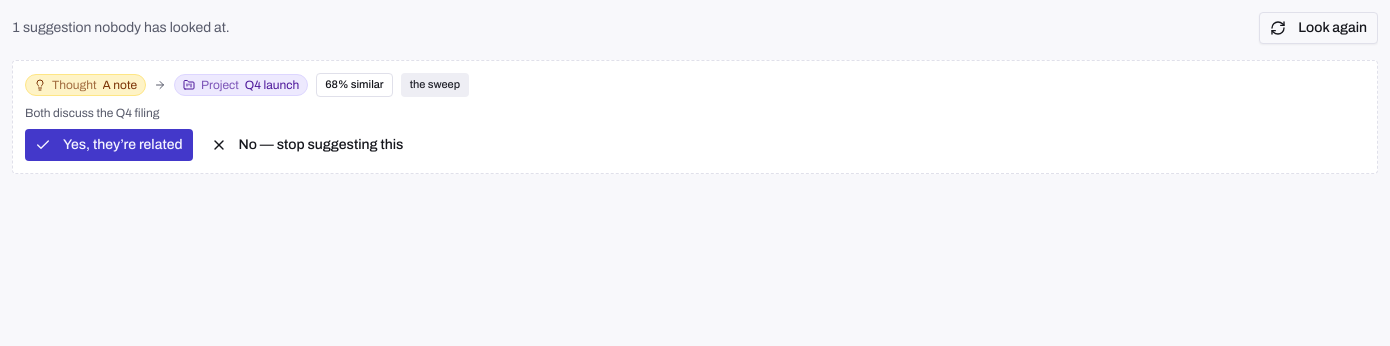
Scenario: ConnectionsView › removes an actioned row immediately
The width and height of the screenshot is (1390, 346).
Click the button "Yes, they’re related" at point(109, 145), box [25,129,192,161]
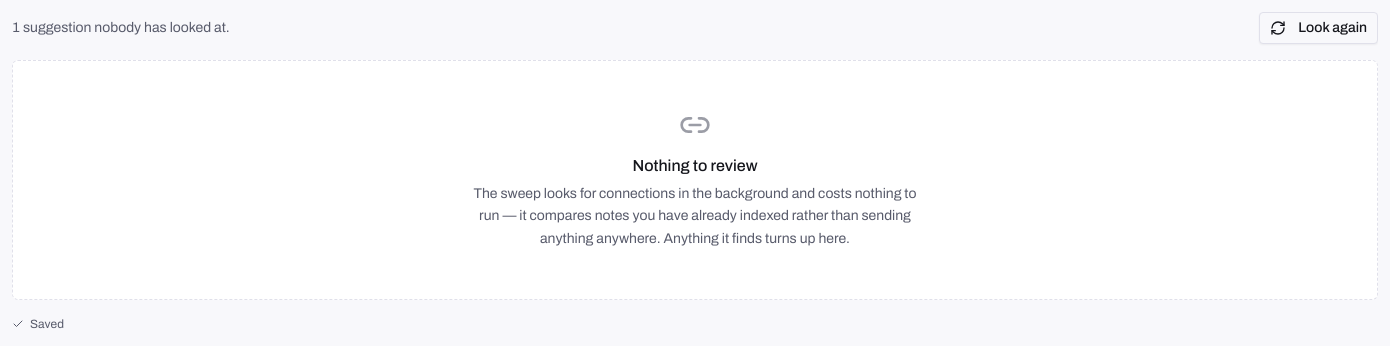
Check: the text "Nothing to review" is shown, box [632,153,758,179]
